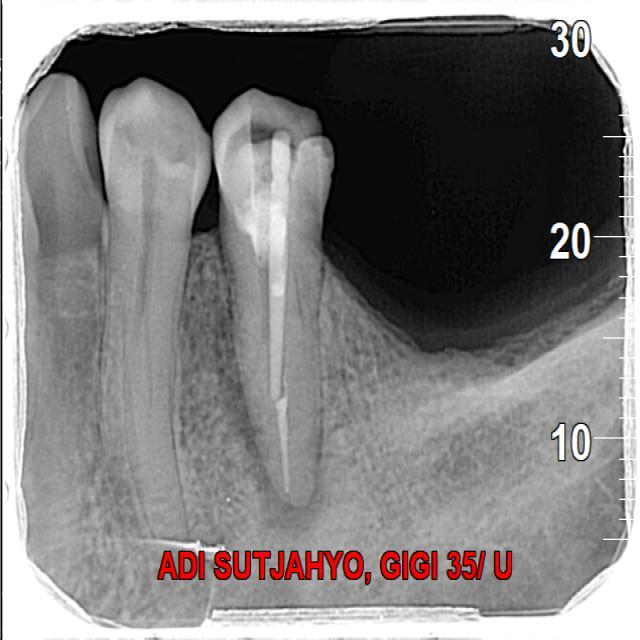individual-tooth-8tto: (100, 84, 221, 557), (216, 94, 333, 495)
